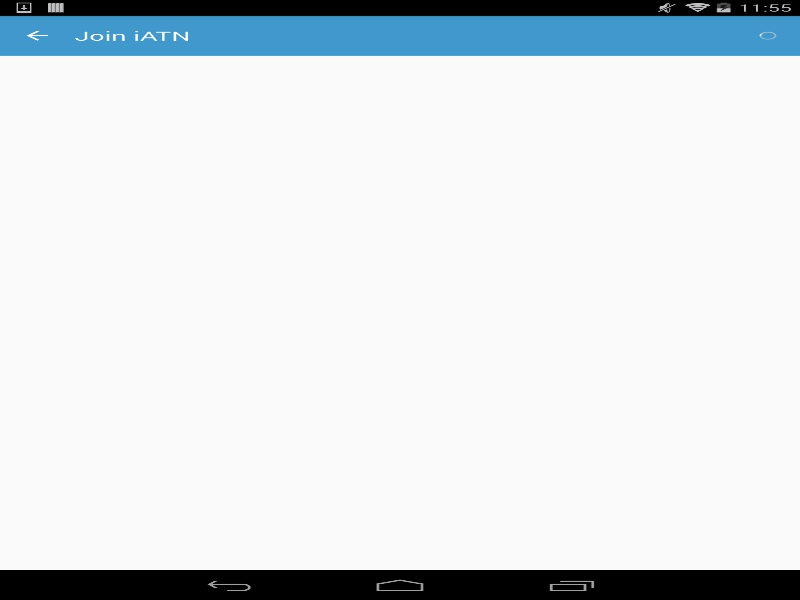Button: (20, 431, 420, 452), (20, 535, 420, 556), (0, 20, 74, 50), (290, 508, 325, 523)
Input: (20, 461, 780, 495), (20, 388, 780, 409), (20, 166, 420, 188), (20, 326, 420, 348), (20, 105, 420, 126), (20, 136, 420, 157), (20, 296, 286, 317), (20, 357, 286, 378), (20, 505, 286, 526), (20, 566, 286, 587), (20, 222, 220, 243), (20, 265, 220, 286)
